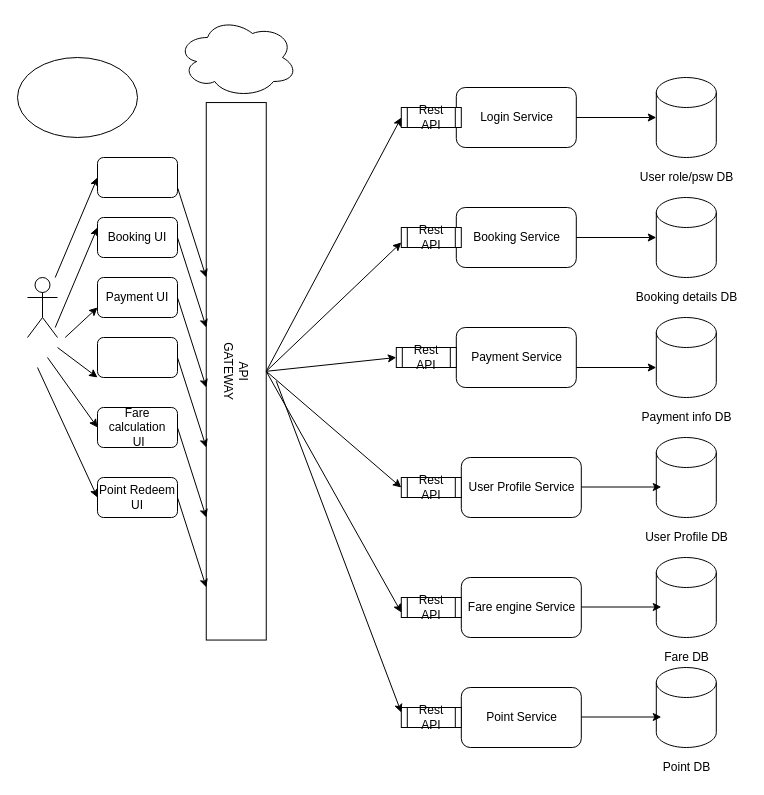
Image size: 764x795. Some labels were removed from this diagram. The shapes that lost their labels are listed below. From the top down, each one's centre as x and y in pixels, then its label:
At pixel 237 57: "RabbitMQ".
At pixel 77 97: "User".
At pixel 137 177: "Login UI".
At pixel 42 307: "Actor".
At pixel 137 357: "Profile UI".
